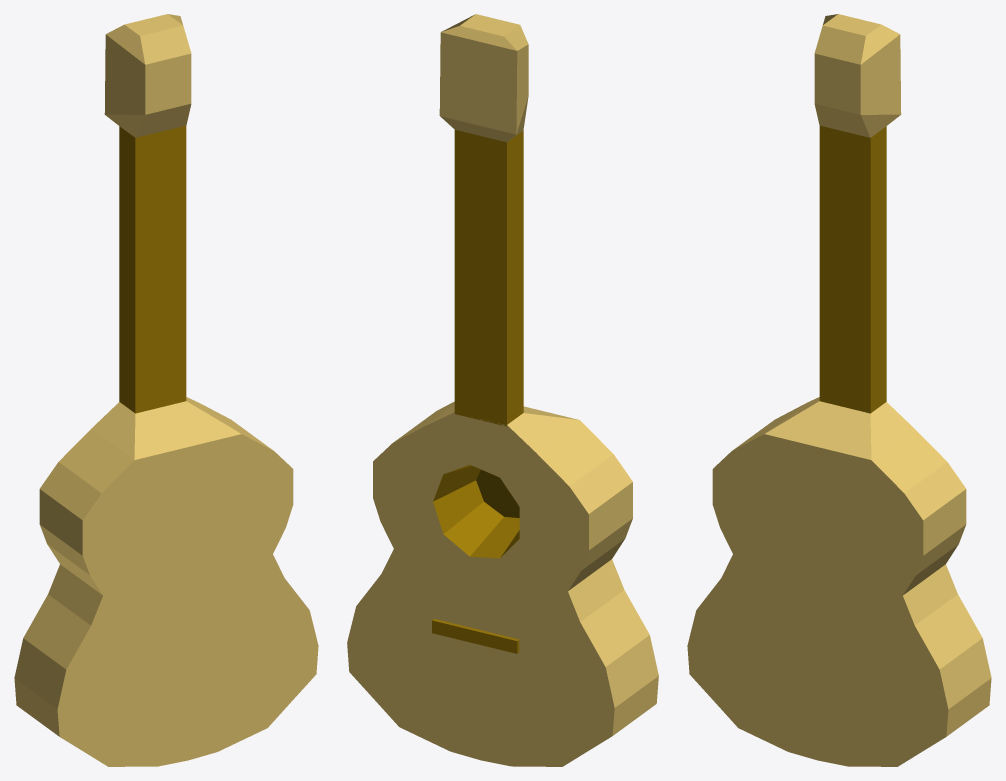
Rendered from guitarunity.fbx.
3 renders of one model, left to right at view 1: azimuth 30°, elevation 25°; view 2: azimuth 150°, elevation 25°; view 3: azimuth 330°, elevation 25°, orthographic. The views are drawn at different scales.
Parts seen in each view (by area): view 1: polySurface3, polySurface5, polySurface6; view 2: polySurface3, polySurface5, polySurface6, polySurface7, pCube3, polySurface8; view 3: polySurface3, polySurface5, polySurface6.
Part boxes in pixels (box(x1,y1,x2,y2)): polySurface3: box(14, 397, 318, 766); polySurface5: box(119, 125, 186, 413); polySurface6: box(104, 14, 191, 137); polySurface3: box(347, 401, 658, 766); polySurface5: box(454, 130, 523, 426); polySurface6: box(439, 14, 528, 142); polySurface7: box(433, 465, 519, 558); pCube3: box(432, 619, 519, 653); polySurface8: box(476, 469, 519, 517); polySurface3: box(687, 397, 991, 766); polySurface5: box(819, 125, 886, 413); polySurface6: box(814, 14, 901, 137).
Bounding box in the file's own units: 3.28 × 8.52 × 0.9968.
